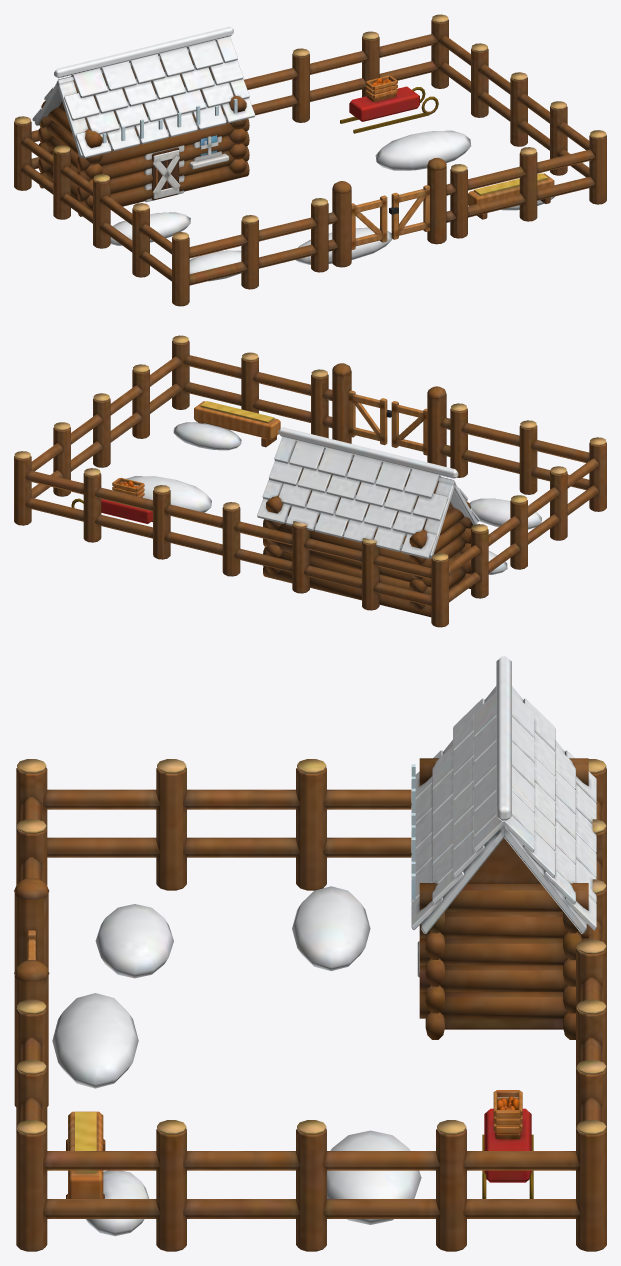
Rendered from reindeer_lodge.glb.
3 renders of one model, top to bottom at view 1: azimuth 30°, elevation 25°; view 2: azimuth 150°, elevation 25°; view 3: azimuth 270°, elevation 25°, orthographic. The views are drawn at different scales.
Parts seen in each view (by area): view 1: reindeer_lodge, gate1, gate0; view 2: reindeer_lodge, gate1, gate0; view 3: reindeer_lodge.
Part boxes in pixels (x1=…): reindeer_lodge: x1=14, y1=14, x2=606, y2=306; gate1: x1=389, y1=185, x2=430, y2=239; gate0: x1=351, y1=195, x2=387, y2=249; reindeer_lodge: x1=14, y1=335, x2=606, y2=627; gate1: x1=348, y1=390, x2=391, y2=445; gate0: x1=391, y1=401, x2=427, y2=455; reindeer_lodge: x1=14, y1=656, x2=606, y2=1251.
Size of the model in its own units: 3 by 0.981 by 2.01.
1 material, 1 textured.
